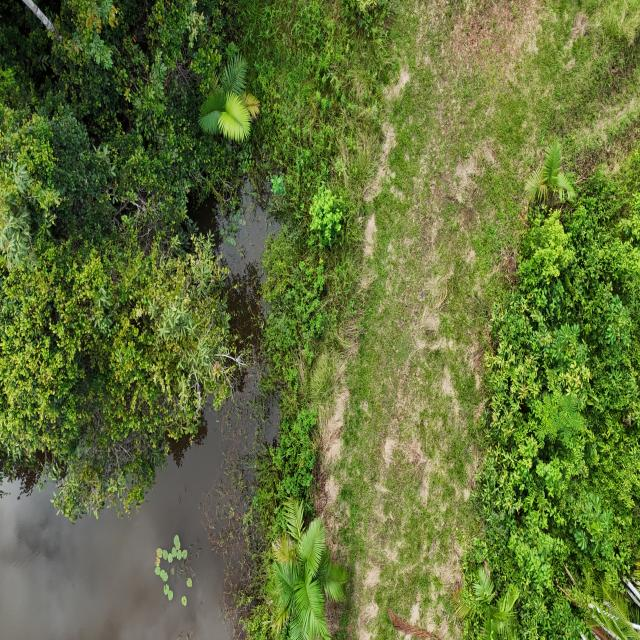vegetation: (456, 142, 639, 638)
